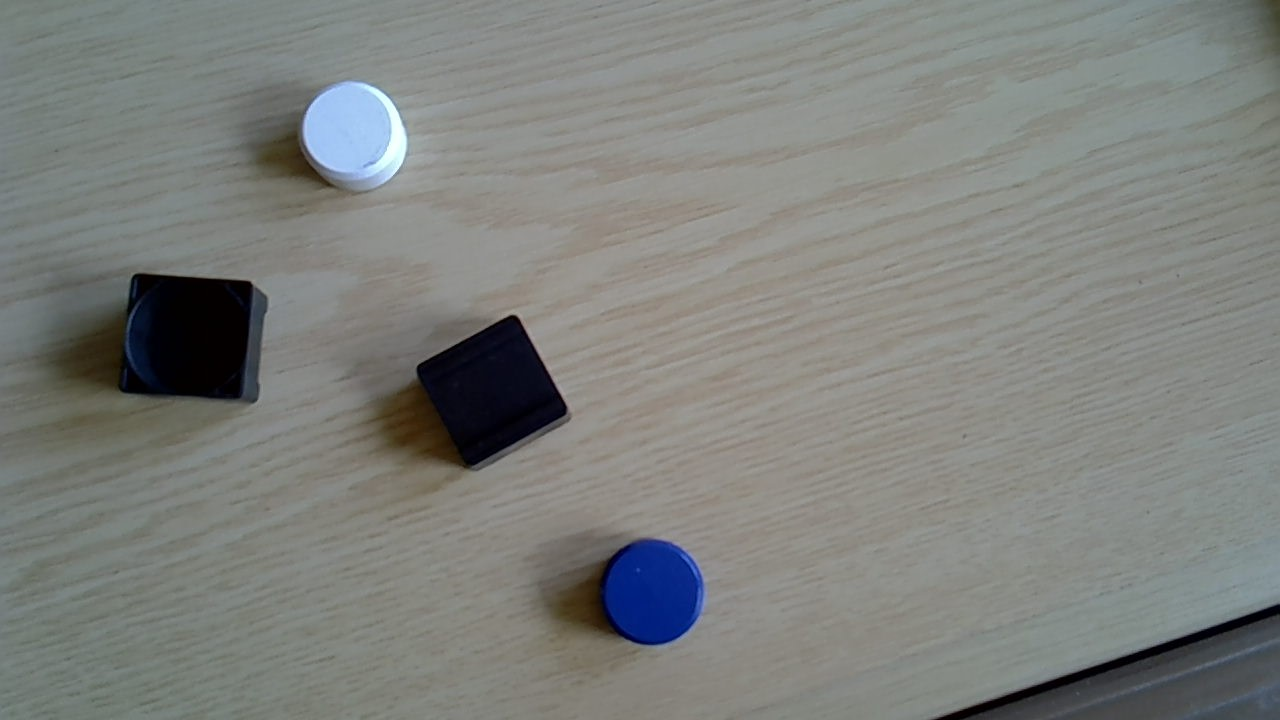Behaelter: (413, 314, 573, 472), (117, 273, 270, 404)
WerkStueck: (299, 77, 410, 193), (598, 536, 706, 647)
